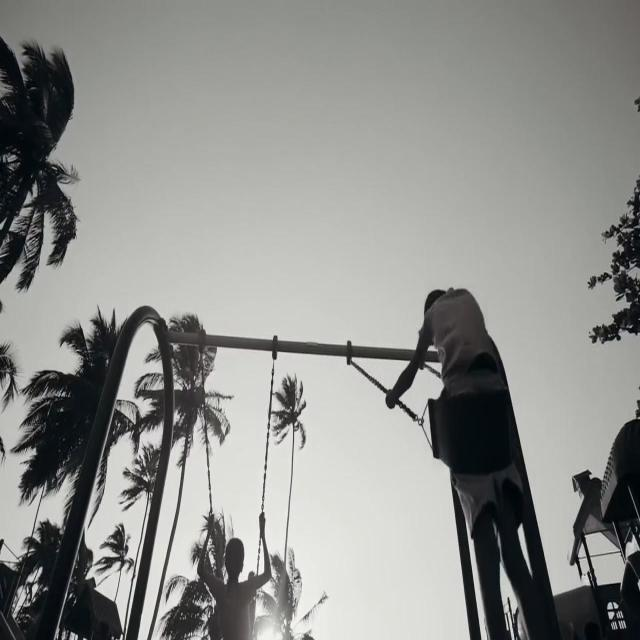no-helmet: (224, 536, 247, 581), (422, 286, 448, 318)
